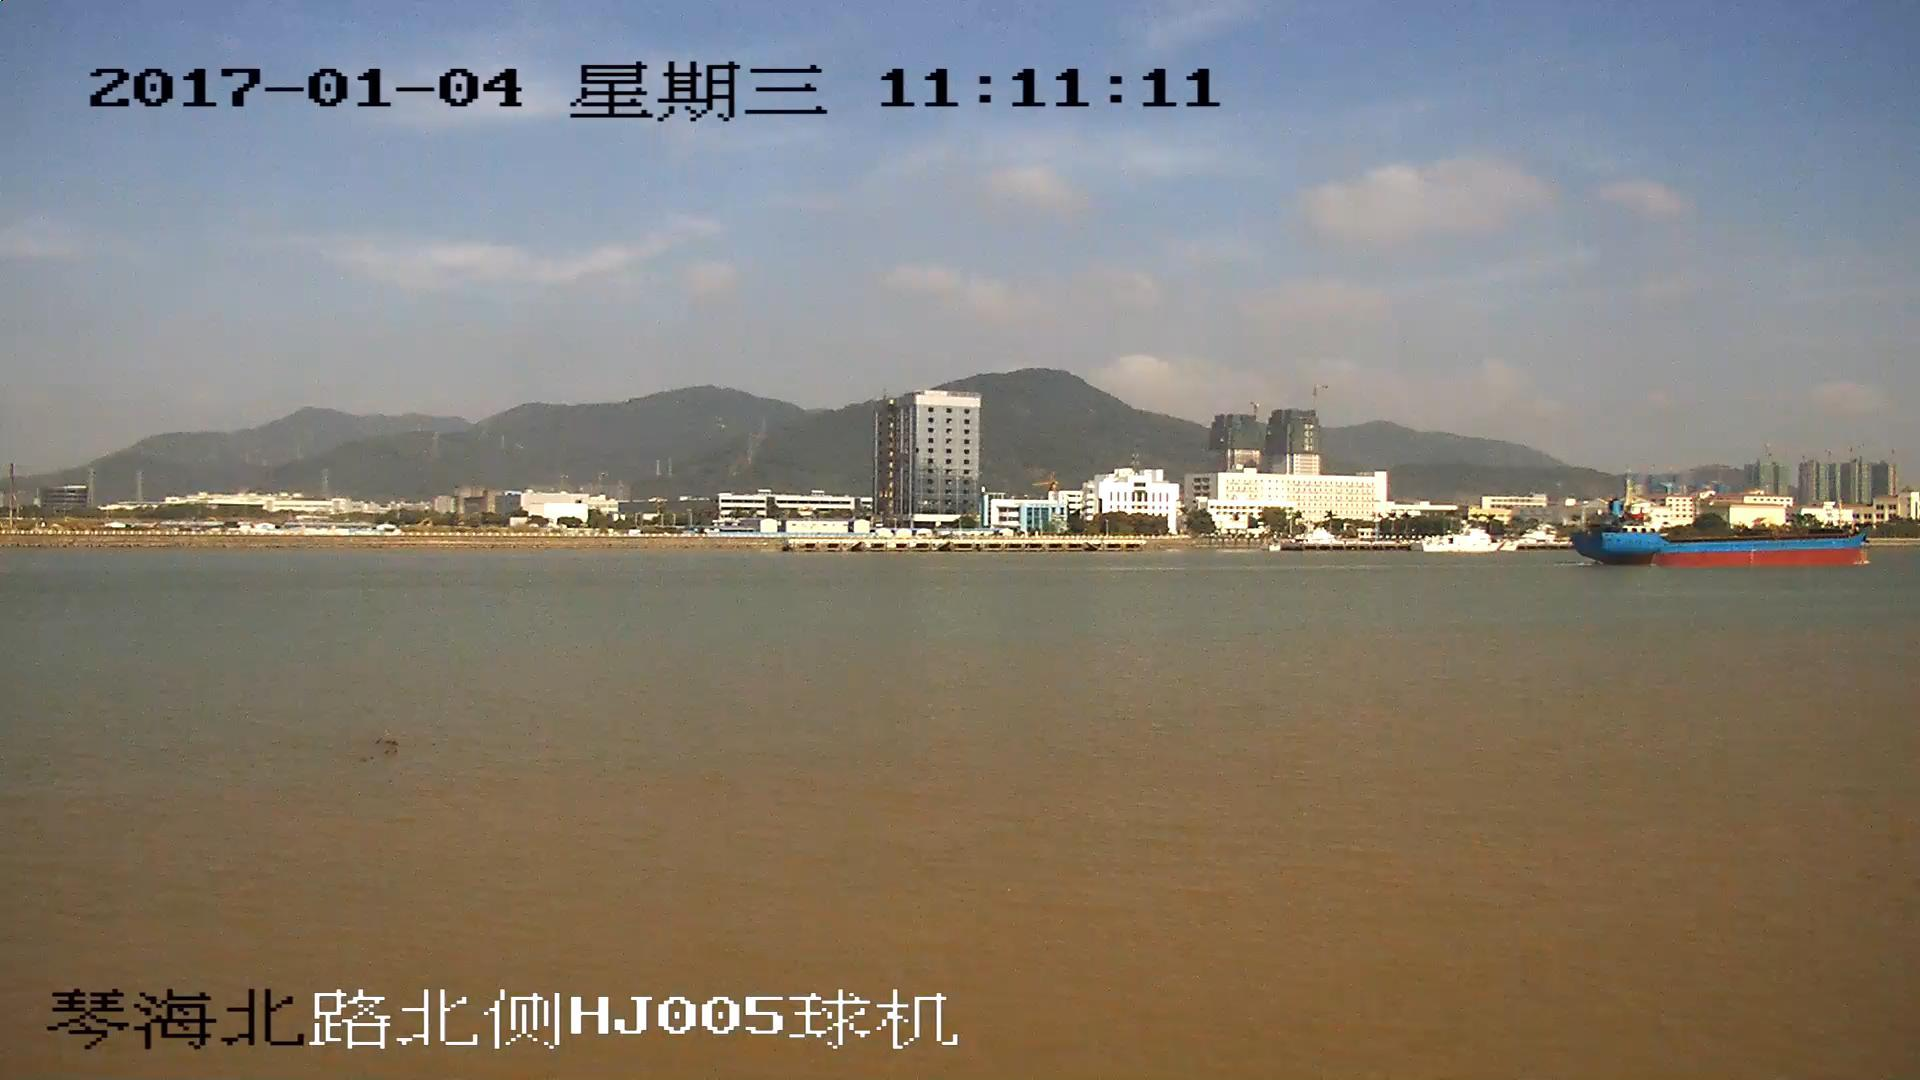Ship: (1580, 480, 1871, 568)
